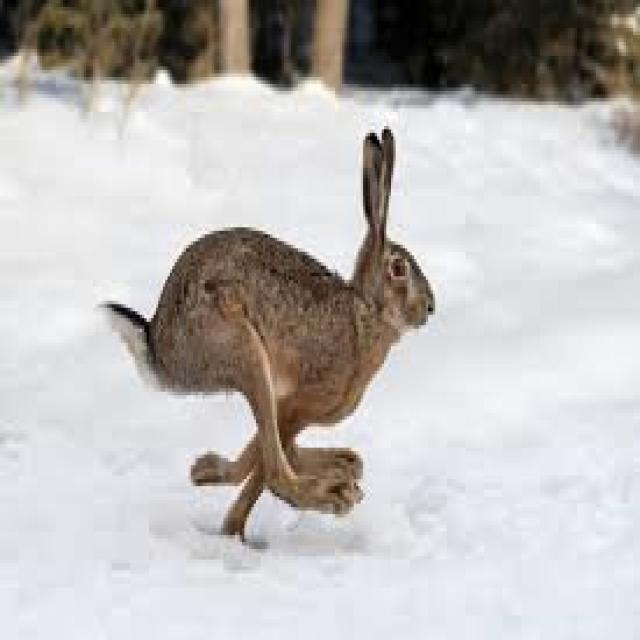hare: (102, 126, 433, 535)
